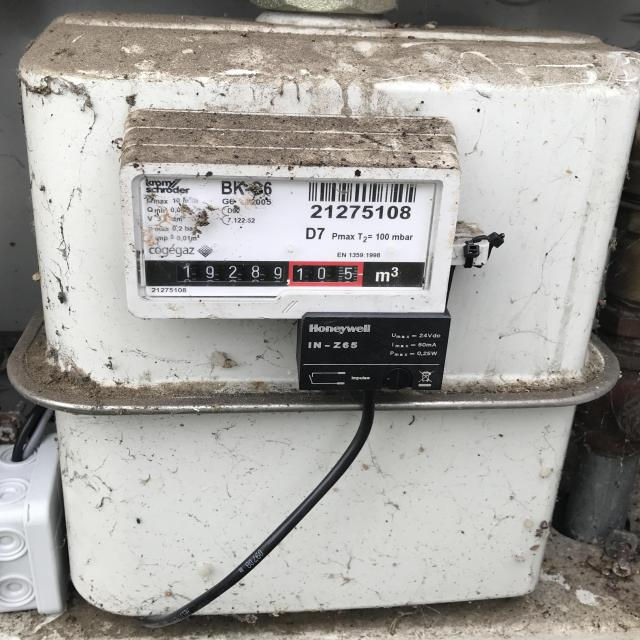gaz_meter: (127, 172, 435, 303)
indication: (160, 258, 363, 287)
